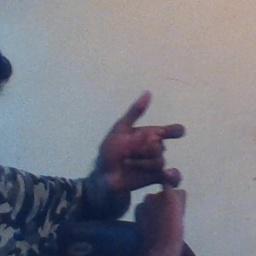S: (90, 88, 195, 231)
